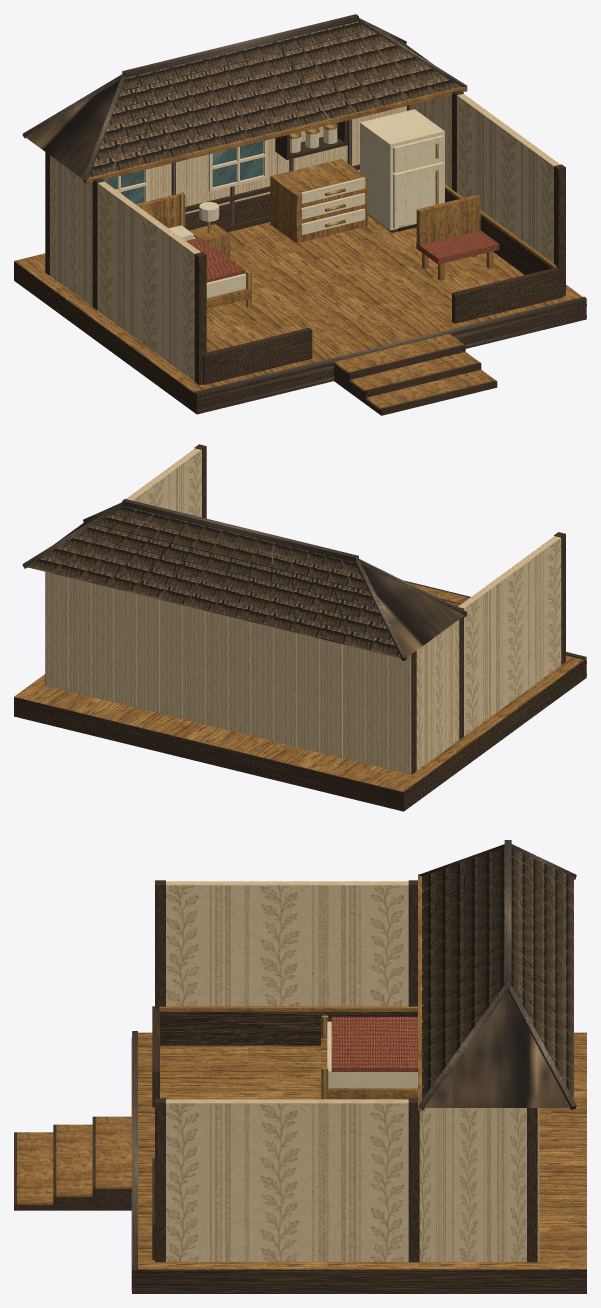
The model's file is northeast-display-home.glb.
3 renders of one model, top to bottom at view 1: azimuth 30°, elevation 25°; view 2: azimuth 150°, elevation 25°; view 3: azimuth 270°, elevation 25°, orthographic. The views are drawn at different scales.
Visible parts, largest first — view 1: northeast-display-home; view 2: northeast-display-home; view 3: northeast-display-home.
Part boxes in pixels (x1,y1,x2,y2): northeast-display-home: (14,14,586,415); northeast-display-home: (14,444,586,811); northeast-display-home: (14,840,586,1293).
Bounding box in the file's own units: 12.8 × 6.67 × 13.1.
1 material, 1 textured.
